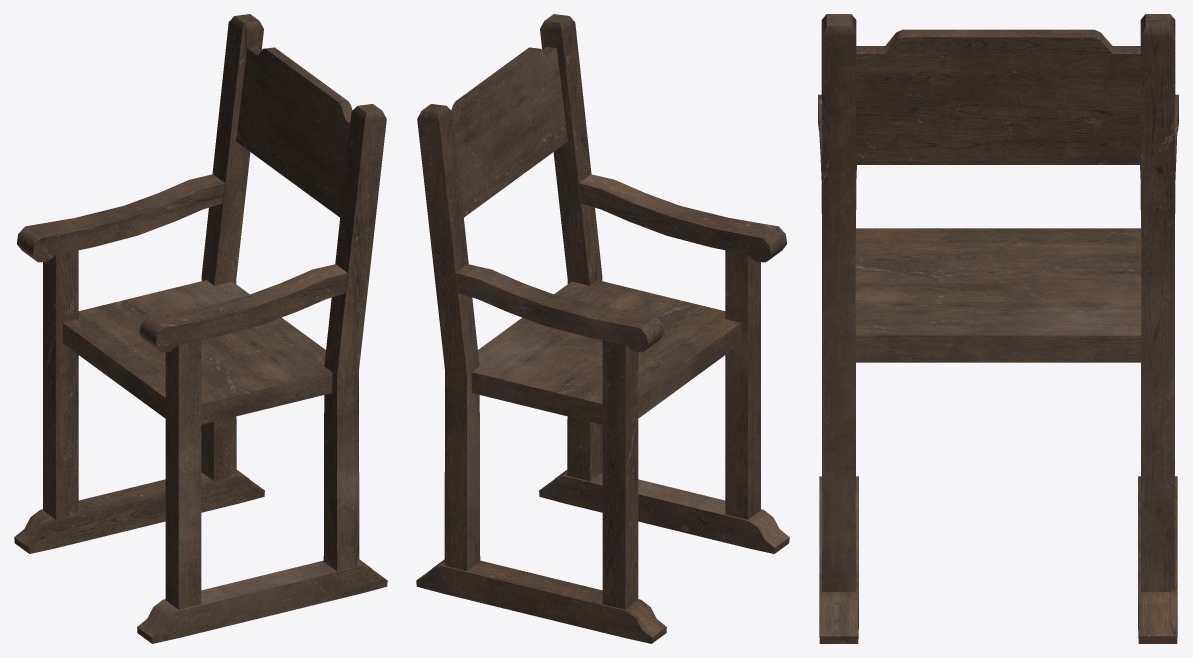
Rendered from SM_Chair_01.fbx.
3 renders of one model, left to right at view 1: azimuth 30°, elevation 25°; view 2: azimuth 150°, elevation 25°; view 3: azimuth 270°, elevation 25°, orthographic. The views are drawn at different scales.
Visible parts, largest first — view 1: SM_Chair_01_LOD0; view 2: SM_Chair_01_LOD0; view 3: SM_Chair_01_LOD0.
Boxes of the visible parts, x1,y1,x2,y2 form: SM_Chair_01_LOD0: [14, 14, 387, 643]; SM_Chair_01_LOD0: [416, 14, 789, 643]; SM_Chair_01_LOD0: [818, 14, 1178, 643].
Size of what is drawn, in the model's own units: 52.69 by 102 by 53.79.
